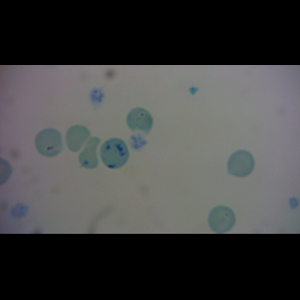aggregate reticulocyte: (99, 137, 130, 169)
erythrocyte: (35, 128, 64, 158), (78, 135, 102, 170), (126, 107, 155, 135), (208, 204, 236, 233), (227, 150, 254, 177), (65, 125, 91, 152)
